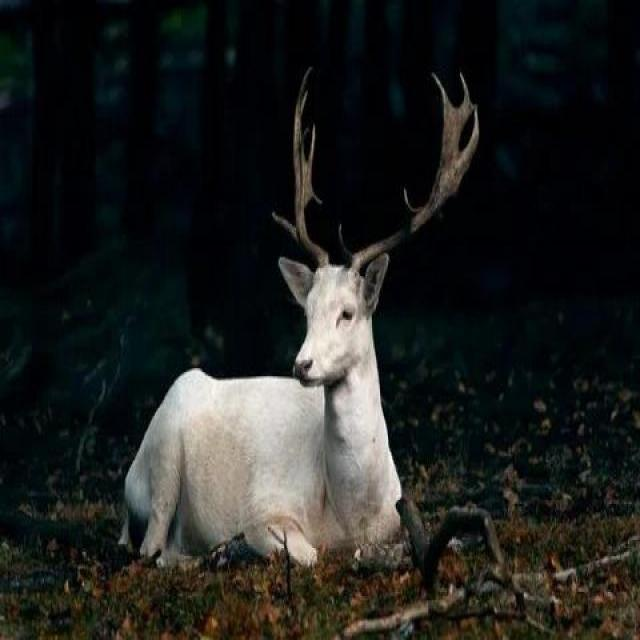deer: (122, 29, 515, 570)
